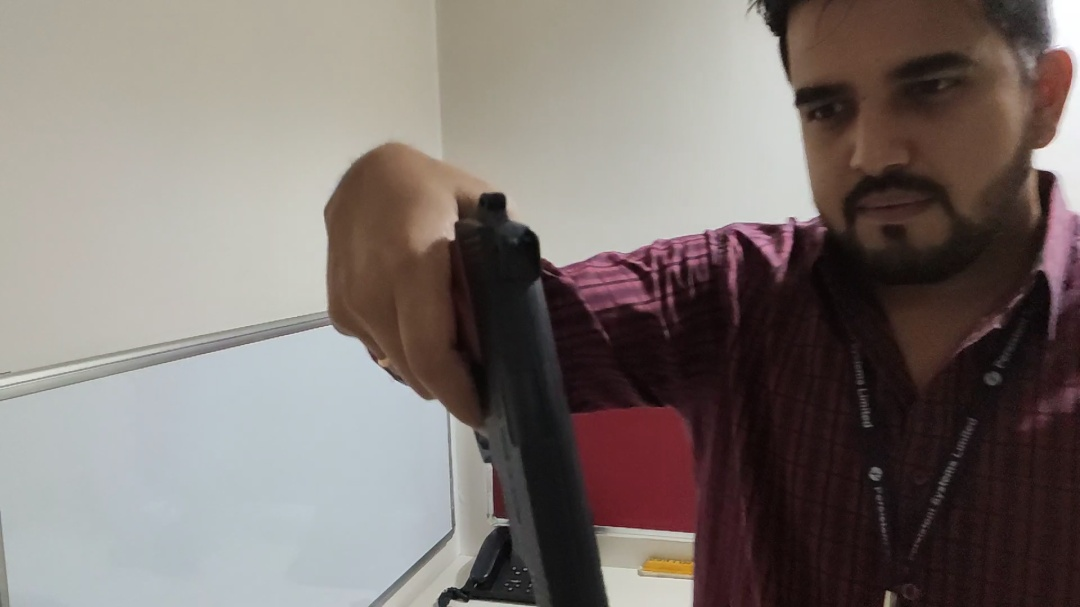gun: (418, 179, 651, 607)
